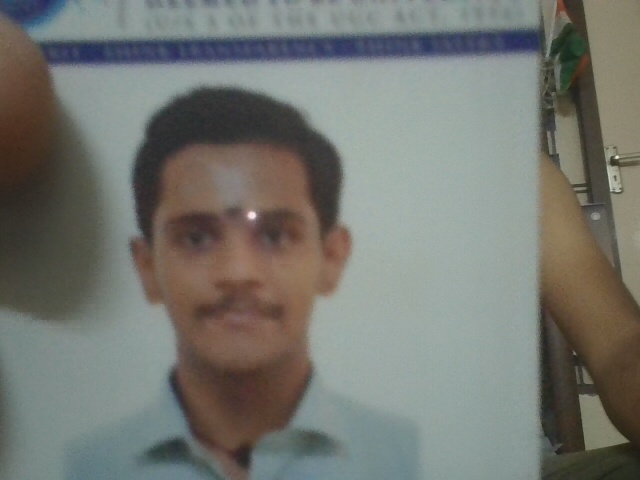fake: (125, 146, 351, 372)
